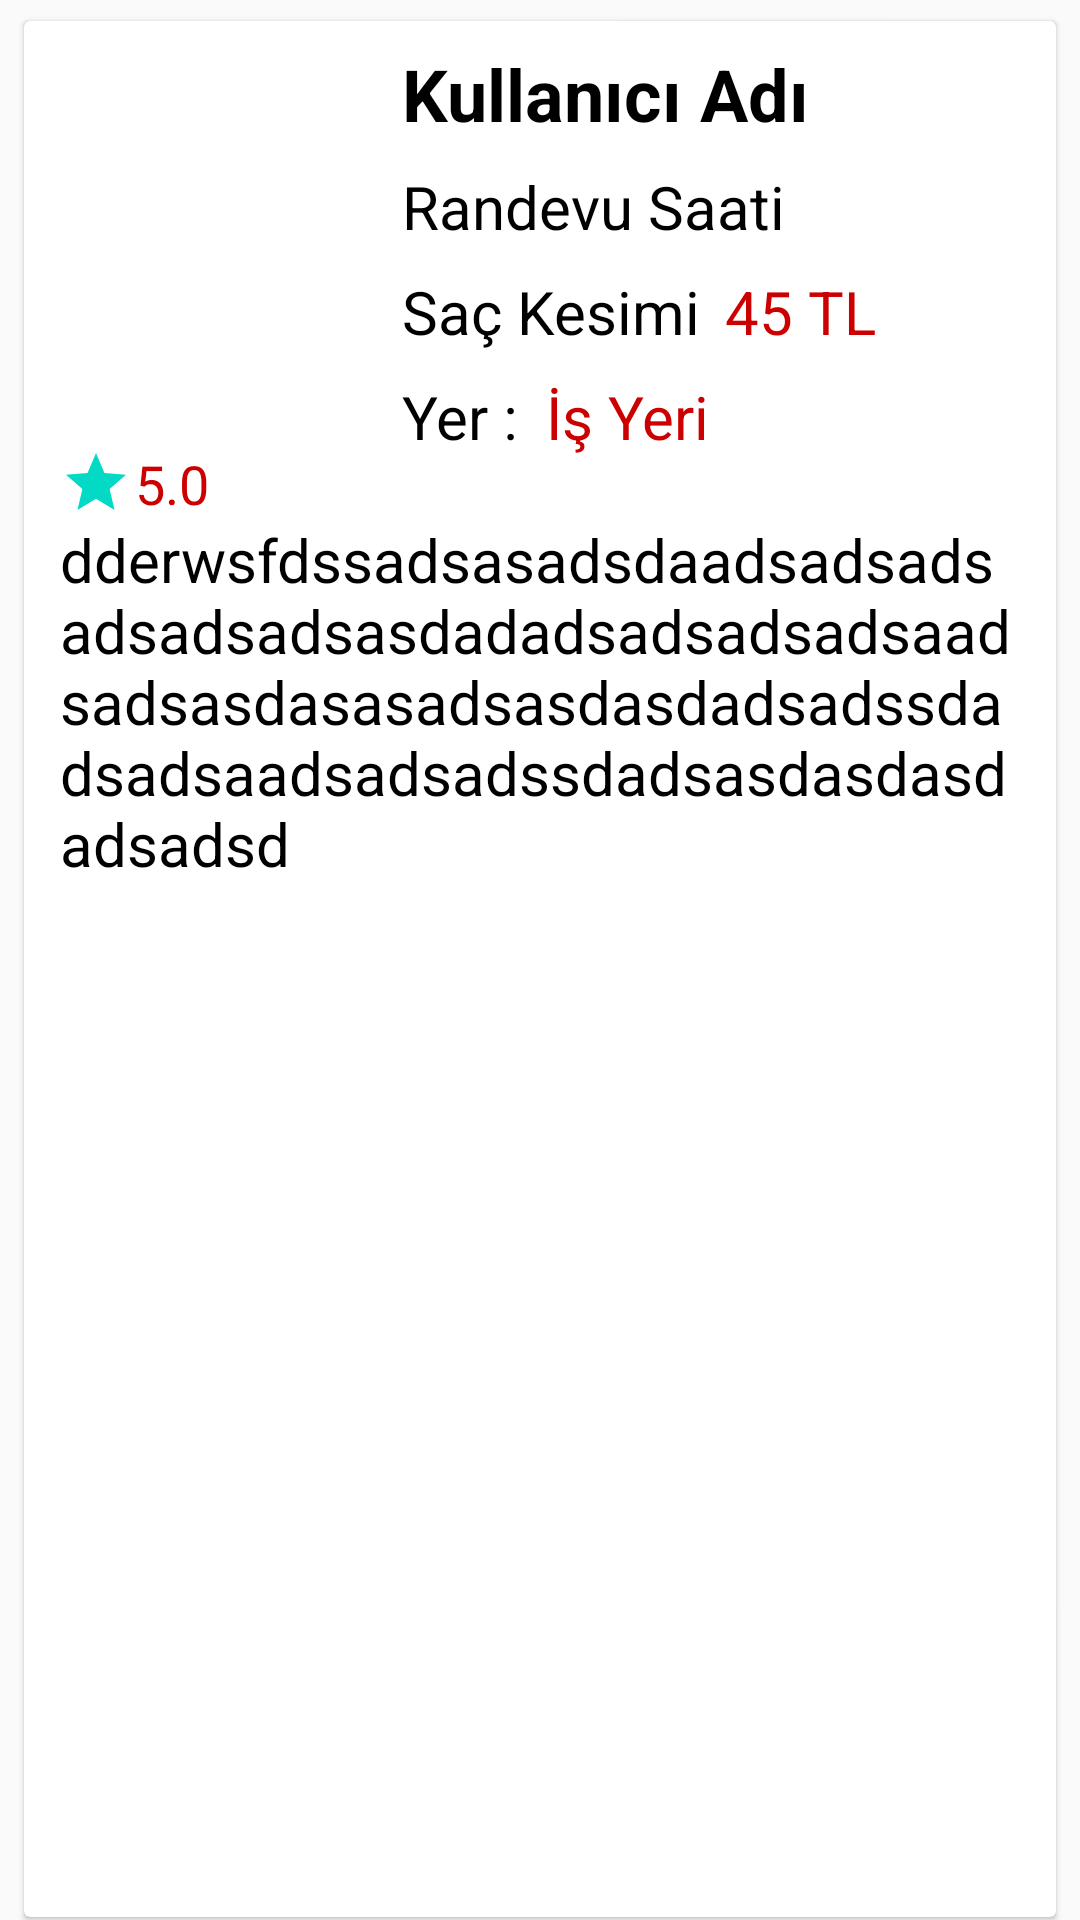

Locate icon controls on the screen. Image size 1080 x 1920, boxes as (x1, y1, x2, y2).
star: (66, 453, 126, 510)
